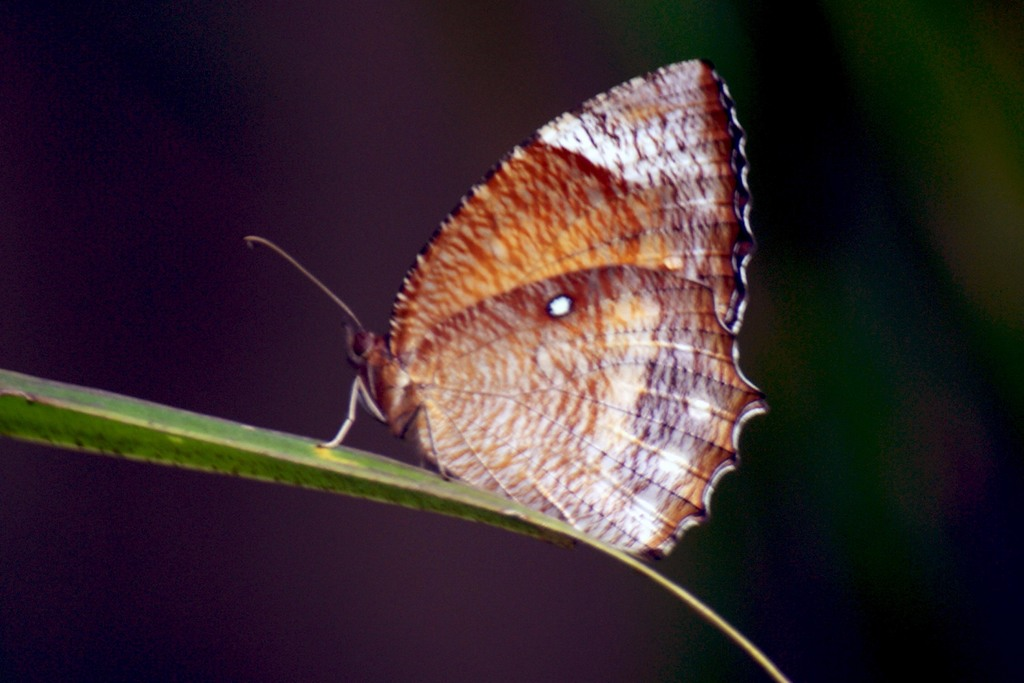Butterfly: (307, 55, 797, 566)
